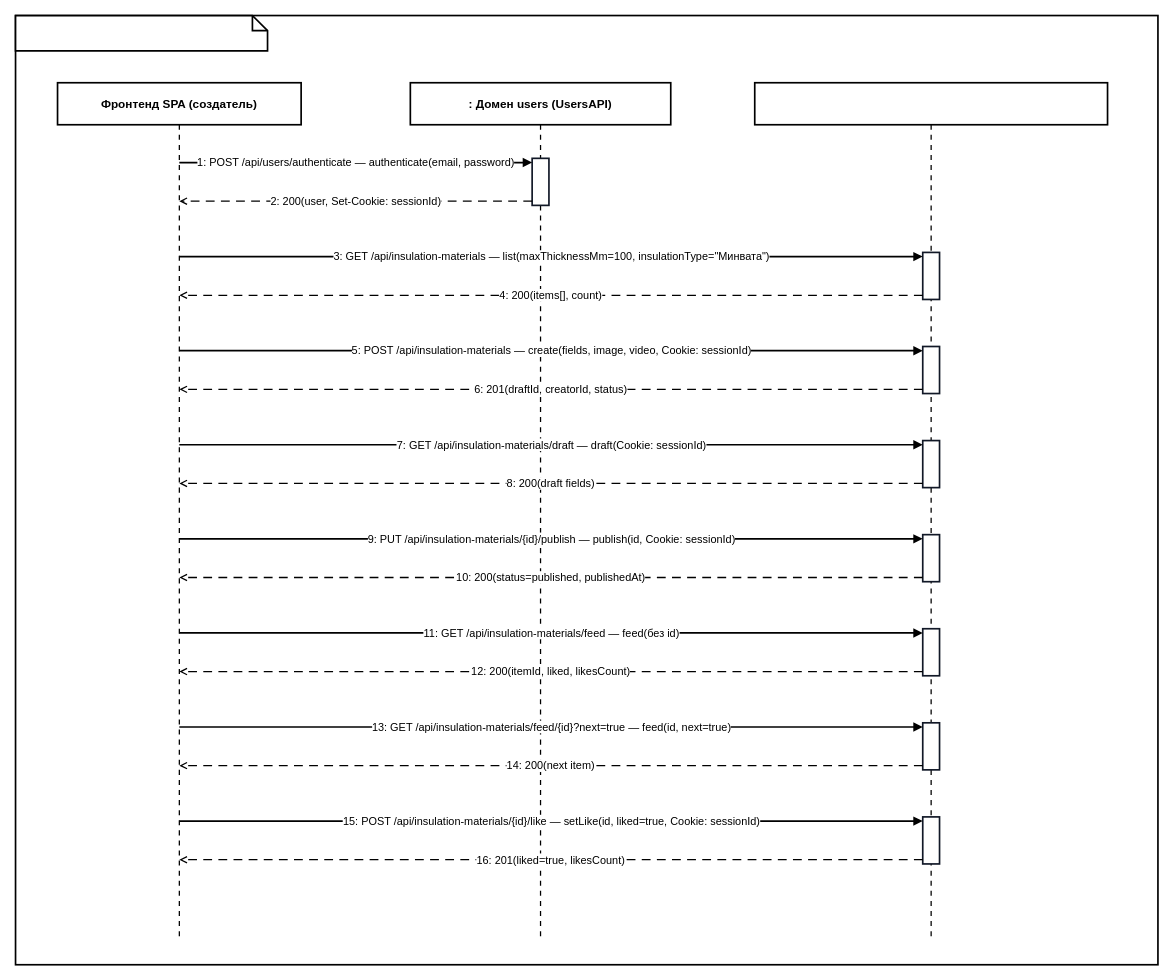
Some shapes in this 1173 by 979 pixel diagram are drawn without their labels. Here are the shapes that lost their labels. From the top down, the centre of each, then its label:
the point at 141,32: sd Диаграмма последовательности
the point at 930,103: : Домен insulation-materials (InsulationMaterialsAPI)
